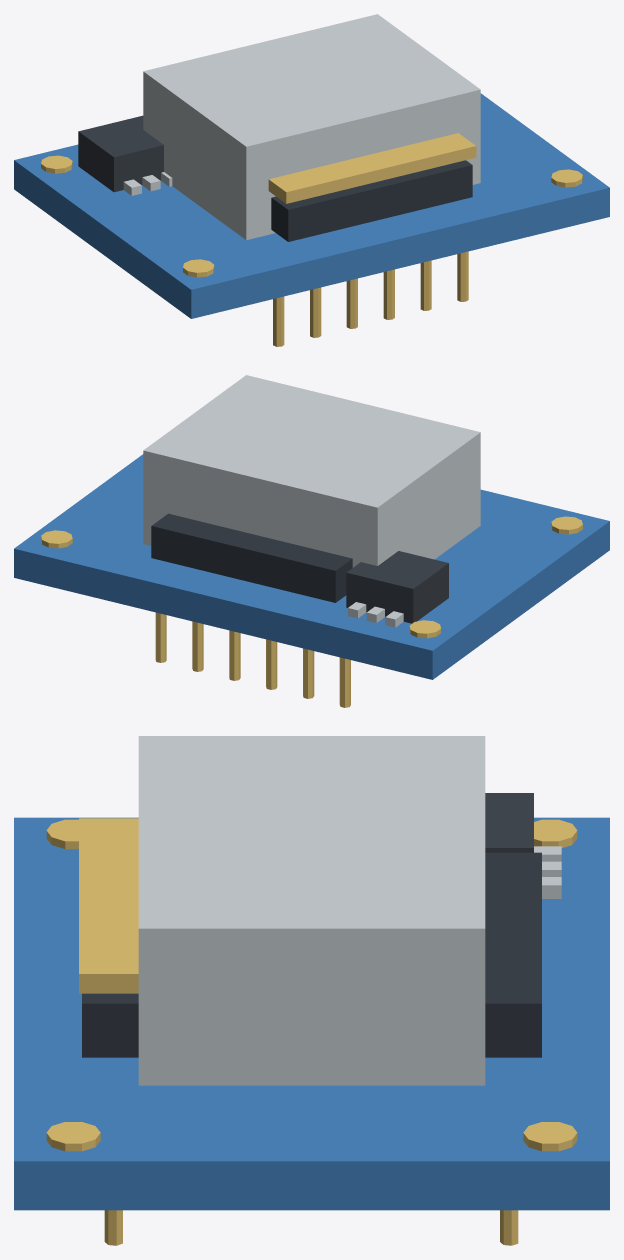
File: product-11.glb
3 renders of one model, top to bottom at view 1: azimuth 30°, elevation 25°; view 2: azimuth 150°, elevation 25°; view 3: azimuth 270°, elevation 25°, orthographic. The views are drawn at different scales.
Parts seen in each view (by area): view 1: product-11; view 2: product-11; view 3: product-11.
Boxes of the visible parts, x1,y1,x2,y2 form: product-11: [14, 14, 609, 346]; product-11: [14, 375, 609, 707]; product-11: [14, 736, 609, 1245].
Size of the model in its own units: 0.75 by 0.34 by 0.55.
